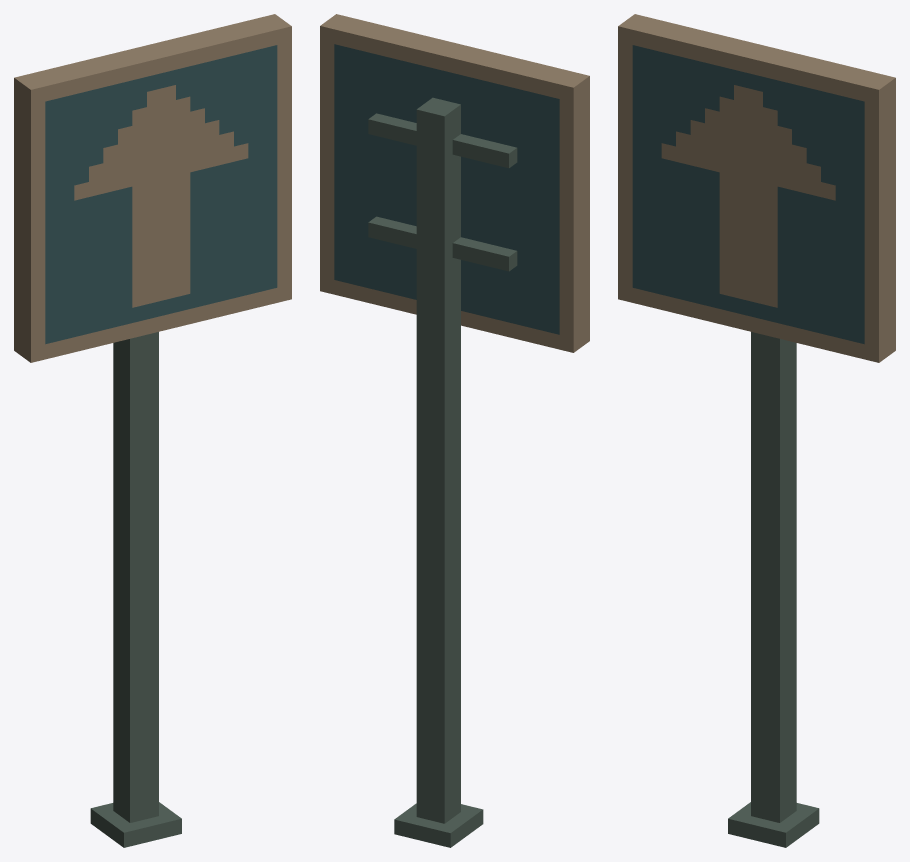
Rendered from roadsign-60.obj.
The picture shows the model from 3 angles, left to right: view 1: azimuth 30°, elevation 25°; view 2: azimuth 150°, elevation 25°; view 3: azimuth 330°, elevation 25°; orthographic projection. The views are drawn at different scales.
Parts seen in each view (by area): view 1: RoadSign-60; view 2: RoadSign-60; view 3: RoadSign-60.
Part boxes in pixels (left/top/right/bottom): RoadSign-60: left=14, top=14, right=291, bottom=847; RoadSign-60: left=320, top=14, right=589, bottom=847; RoadSign-60: left=618, top=14, right=895, bottom=847.
Bounding box in the file's own units: 0.36 × 1.04 × 0.1.
1 material, 1 textured.
